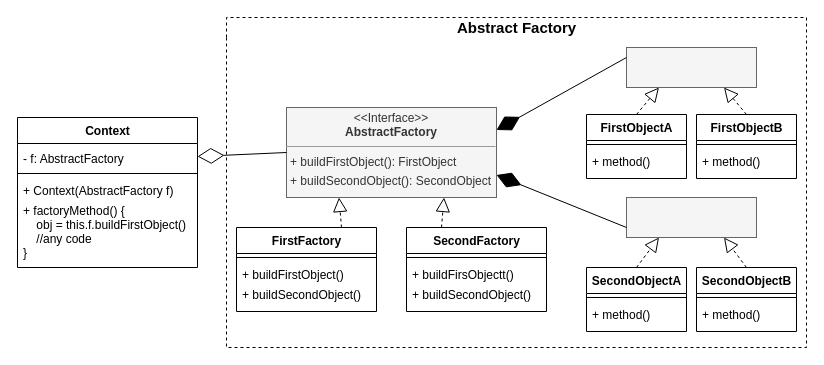
The diagram is 824 pixels wide and 365 high, and some of its shapes have lost their labels. Each missing label, with the centre of its shape:
"<<Interface>> FirstObject" belongs at pixel 691 67.
"<<Interface>> SecondObject" belongs at pixel 691 217.
